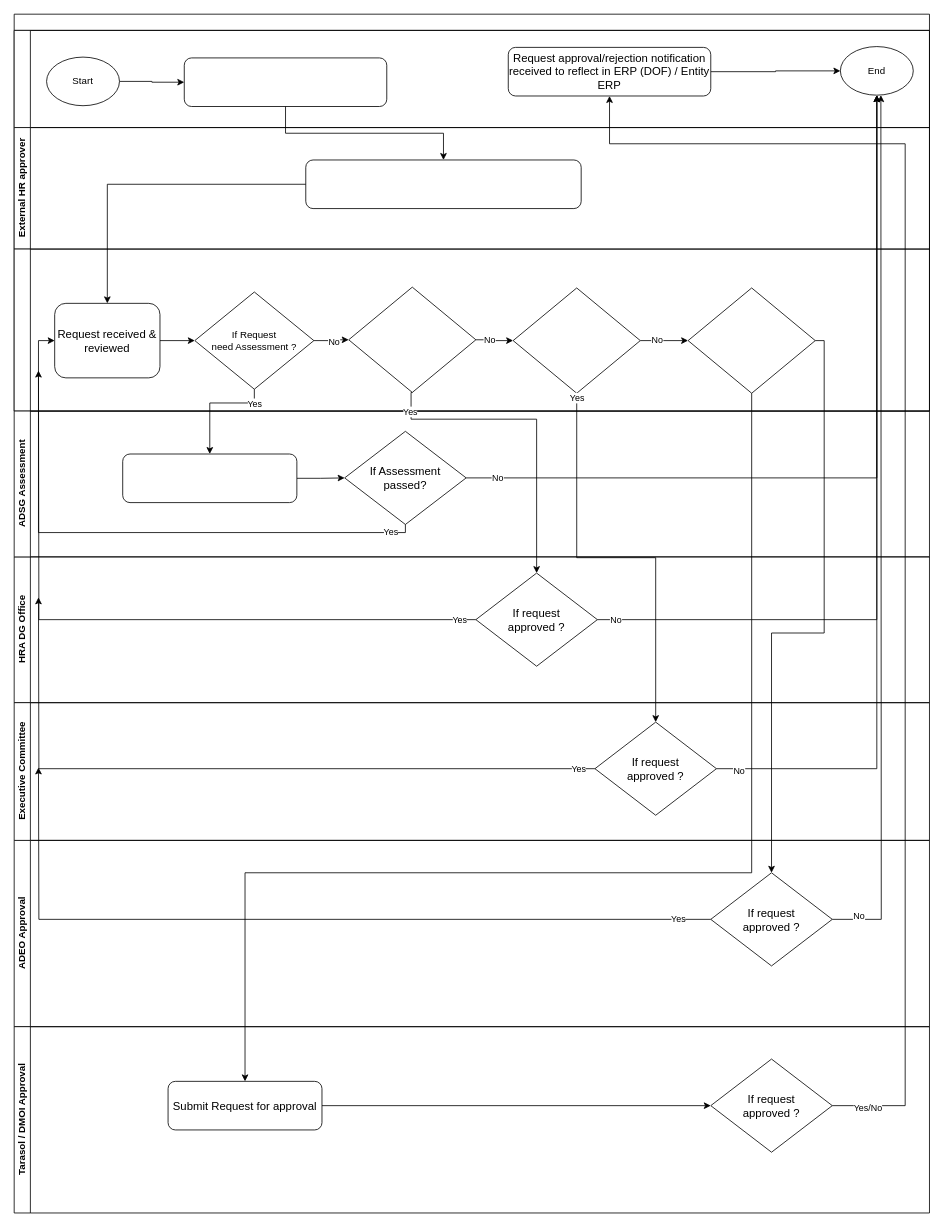
This 944x1227 diagram has some shape labels left out. Each missing label, with the box of its shape:
Assessment Evaluation done by ADSG: (122, 453, 297, 503)
HR Requestor: (13, 30, 929, 128)
HRA GASO Team approval: (13, 248, 929, 411)
If Request need ADEO Approval?: (687, 287, 815, 393)
If Request need Executive Committee Approval?: (512, 287, 640, 393)
If Request need HR DG Approval?: (348, 286, 476, 392)
Kawader Request Flow: (13, 13, 929, 411)
Submit Request by Filling in required Form (Profile / Request): (183, 57, 387, 107)
Verify Request Completness and Sends for HRA - GASO Team approval: (305, 159, 581, 209)
